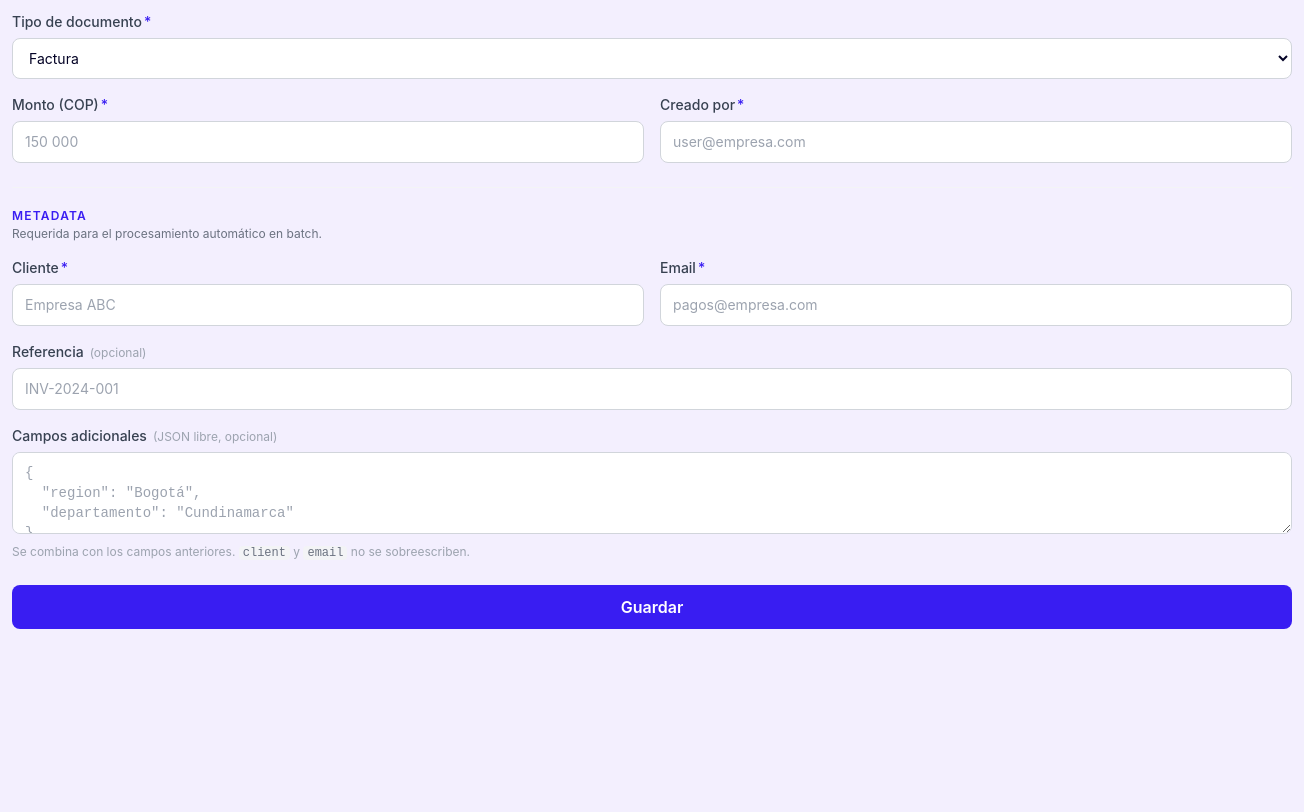
Scenario: DocumentForm › validation errors › shows error when metadata_extra is an array JSON
Type "[1, 2, 3]" into the text box with placeholder "{ \"region\": \"Bogotá\", \"departamento\": \"Cundinamarca\" }" at (652, 493), box [12,452,1292,534]
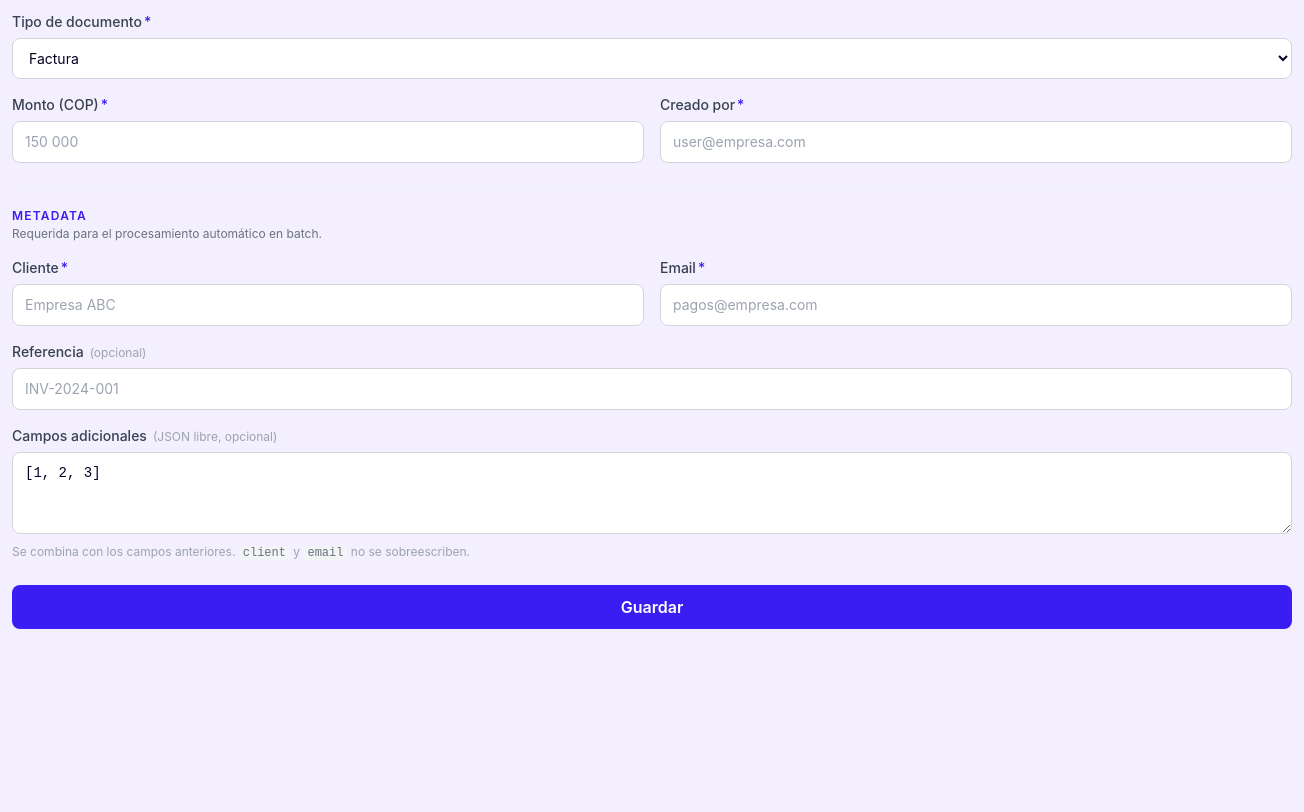
Type "100" into the number field with placeholder "150 000" at (328, 142), box [12,121,644,163]
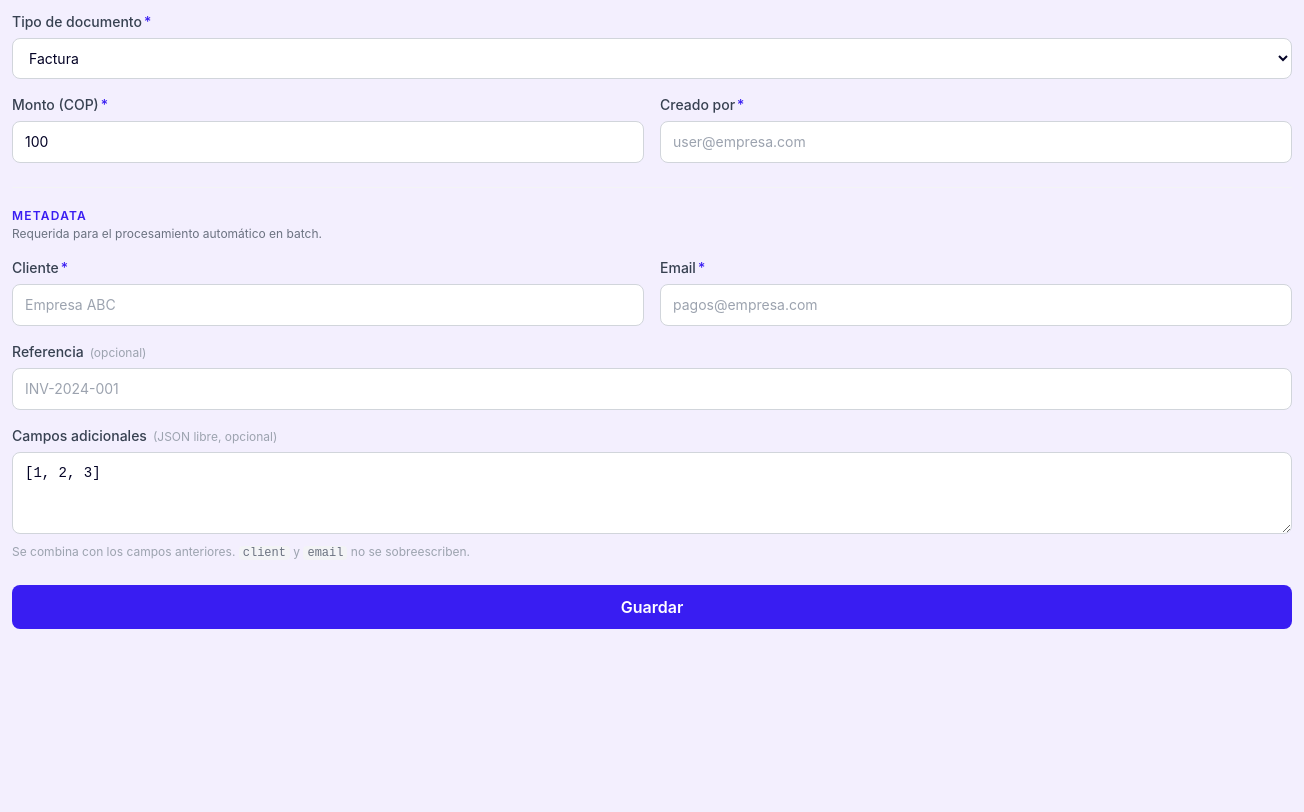
Type "user" into the field with placeholder "user@empresa.com" at (976, 142), box [660,121,1292,163]
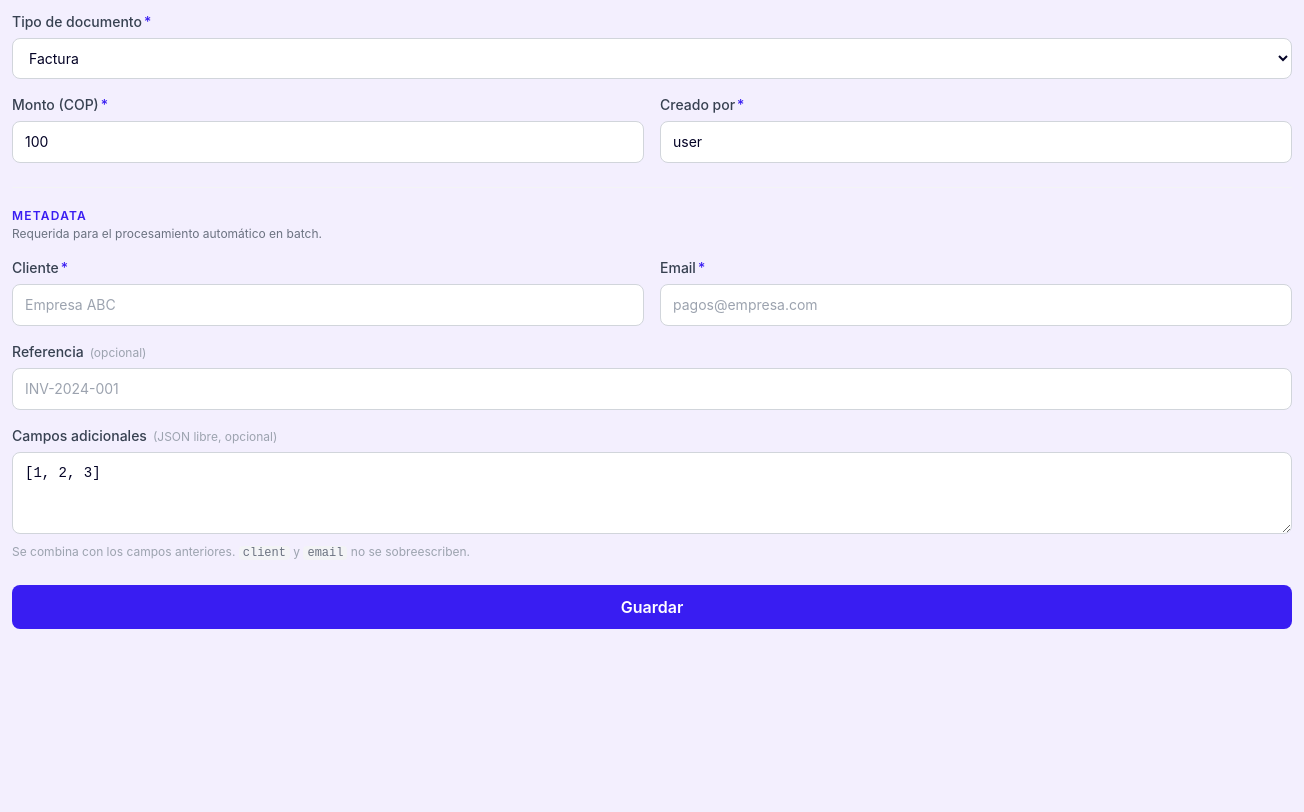
Type "Acme" into the field with placeholder "Empresa ABC" at (328, 305), box [12,284,644,326]
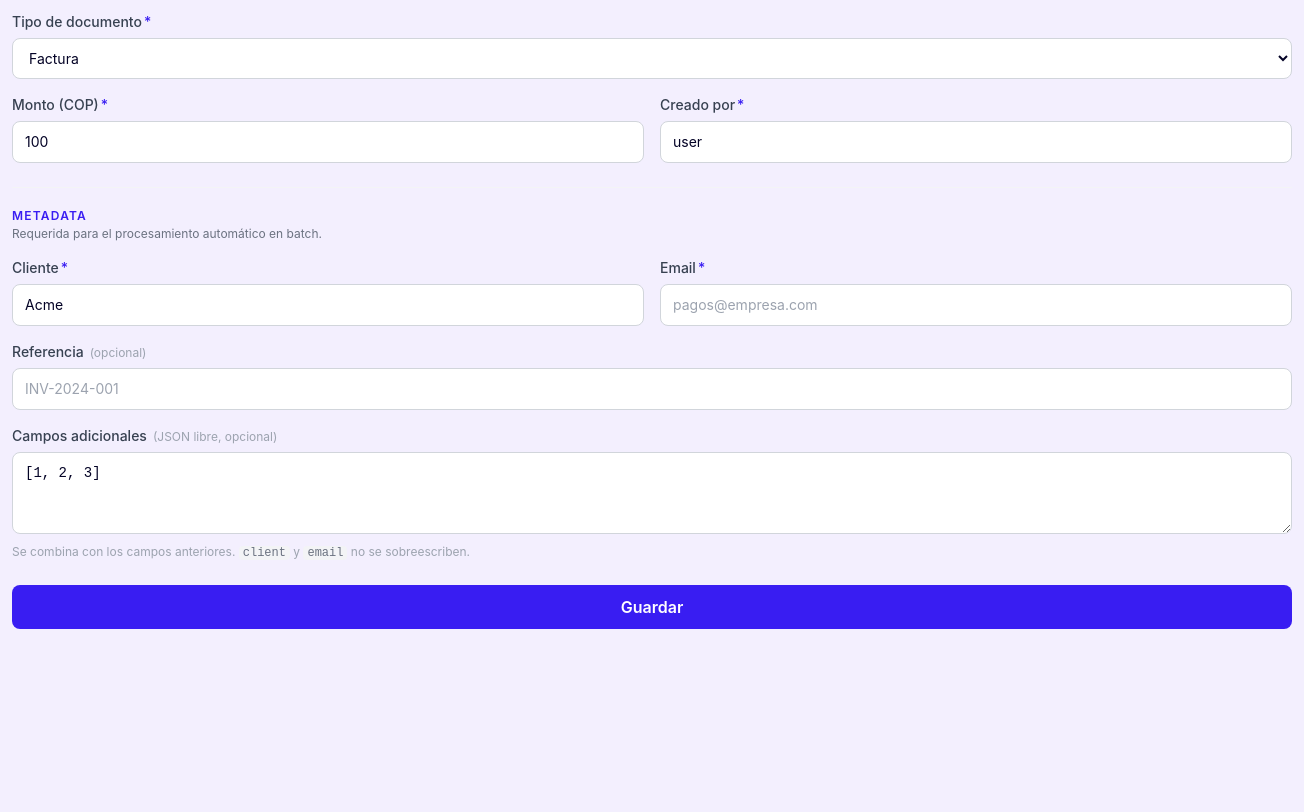
Type "a@b.com" into the field with placeholder "pagos@empresa.com" at (976, 305), box [660,284,1292,326]
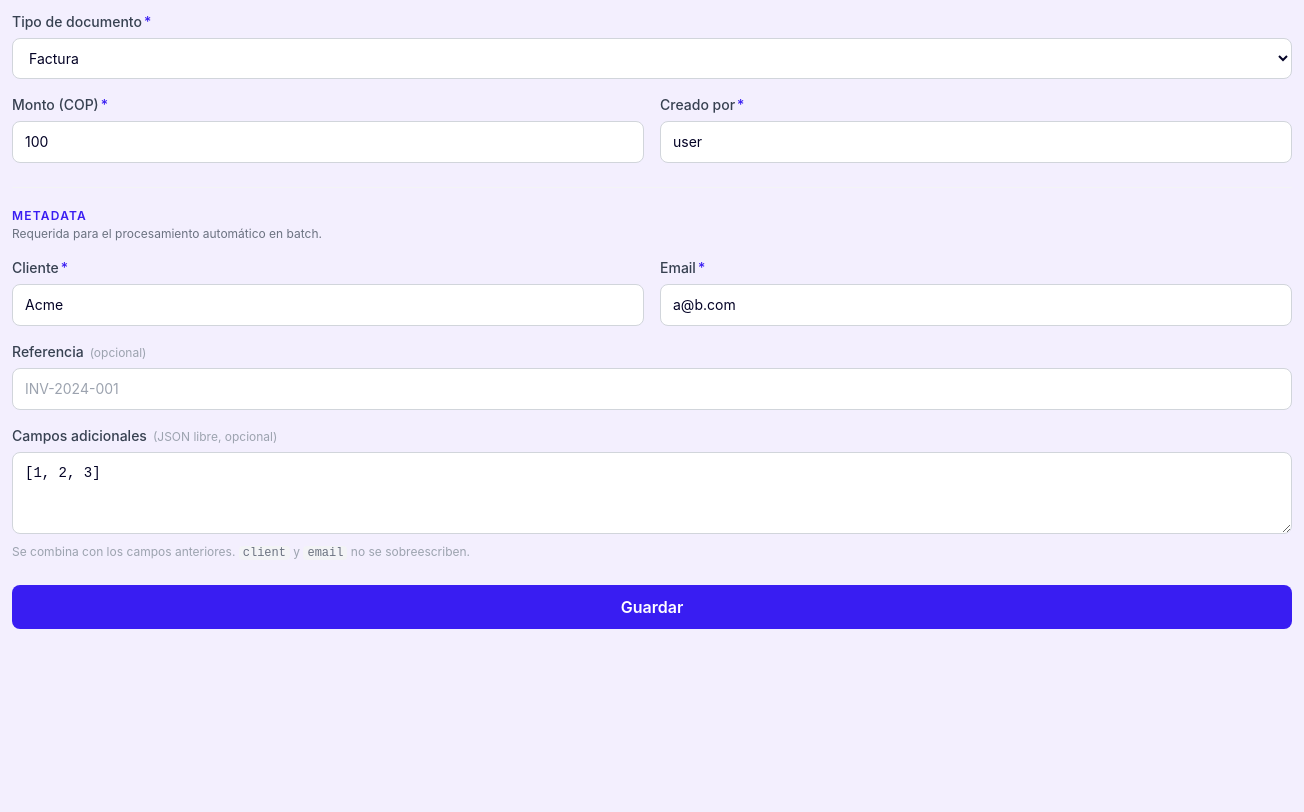
Click the button "Guardar" at (652, 607), box [12,585,1292,629]
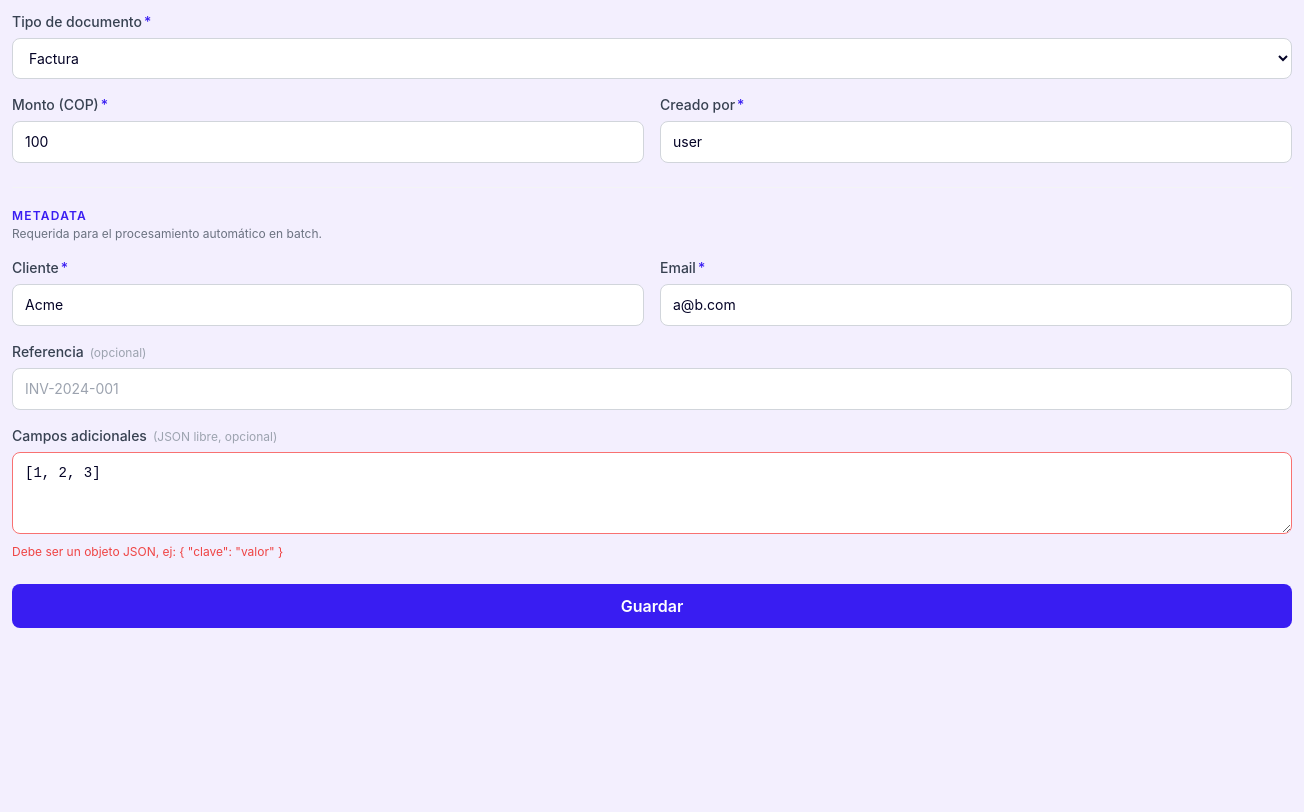
Result: the text "Debe ser un objeto JSON, ej: { \"clave\": \"valor\" }" is shown at [12,544,283,559]
